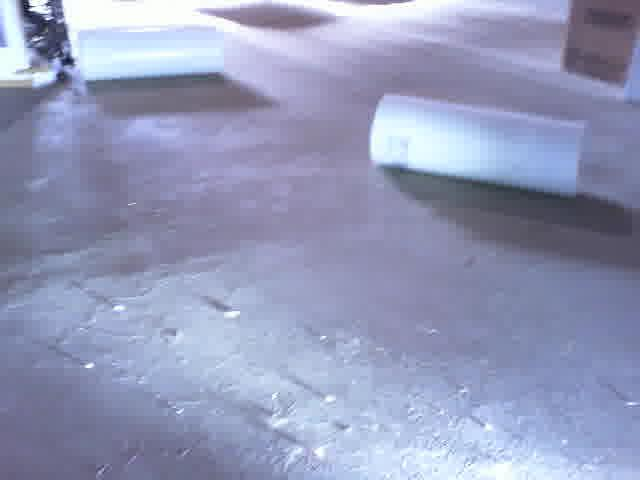coral: (369, 89, 590, 198), (76, 24, 229, 89)
